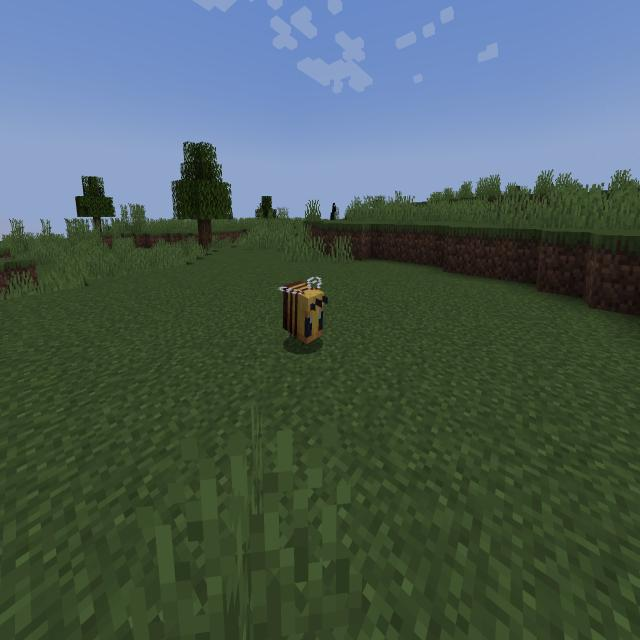bee: (271, 268, 333, 362)
